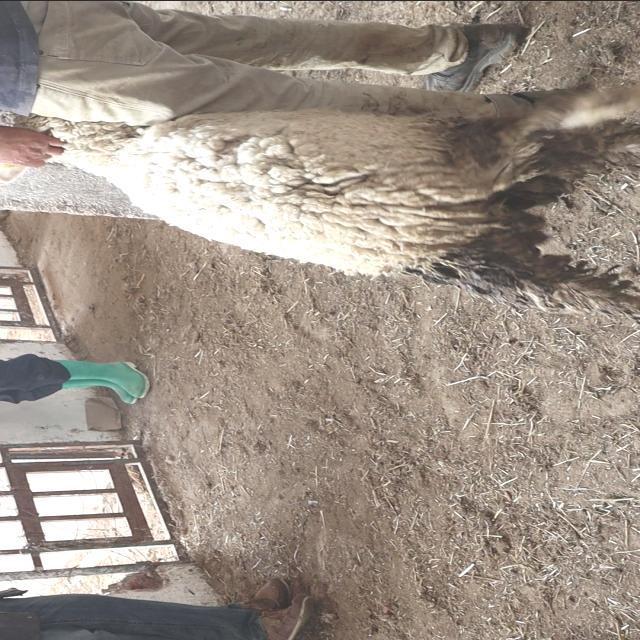Score_3: (0, 86, 639, 320)
